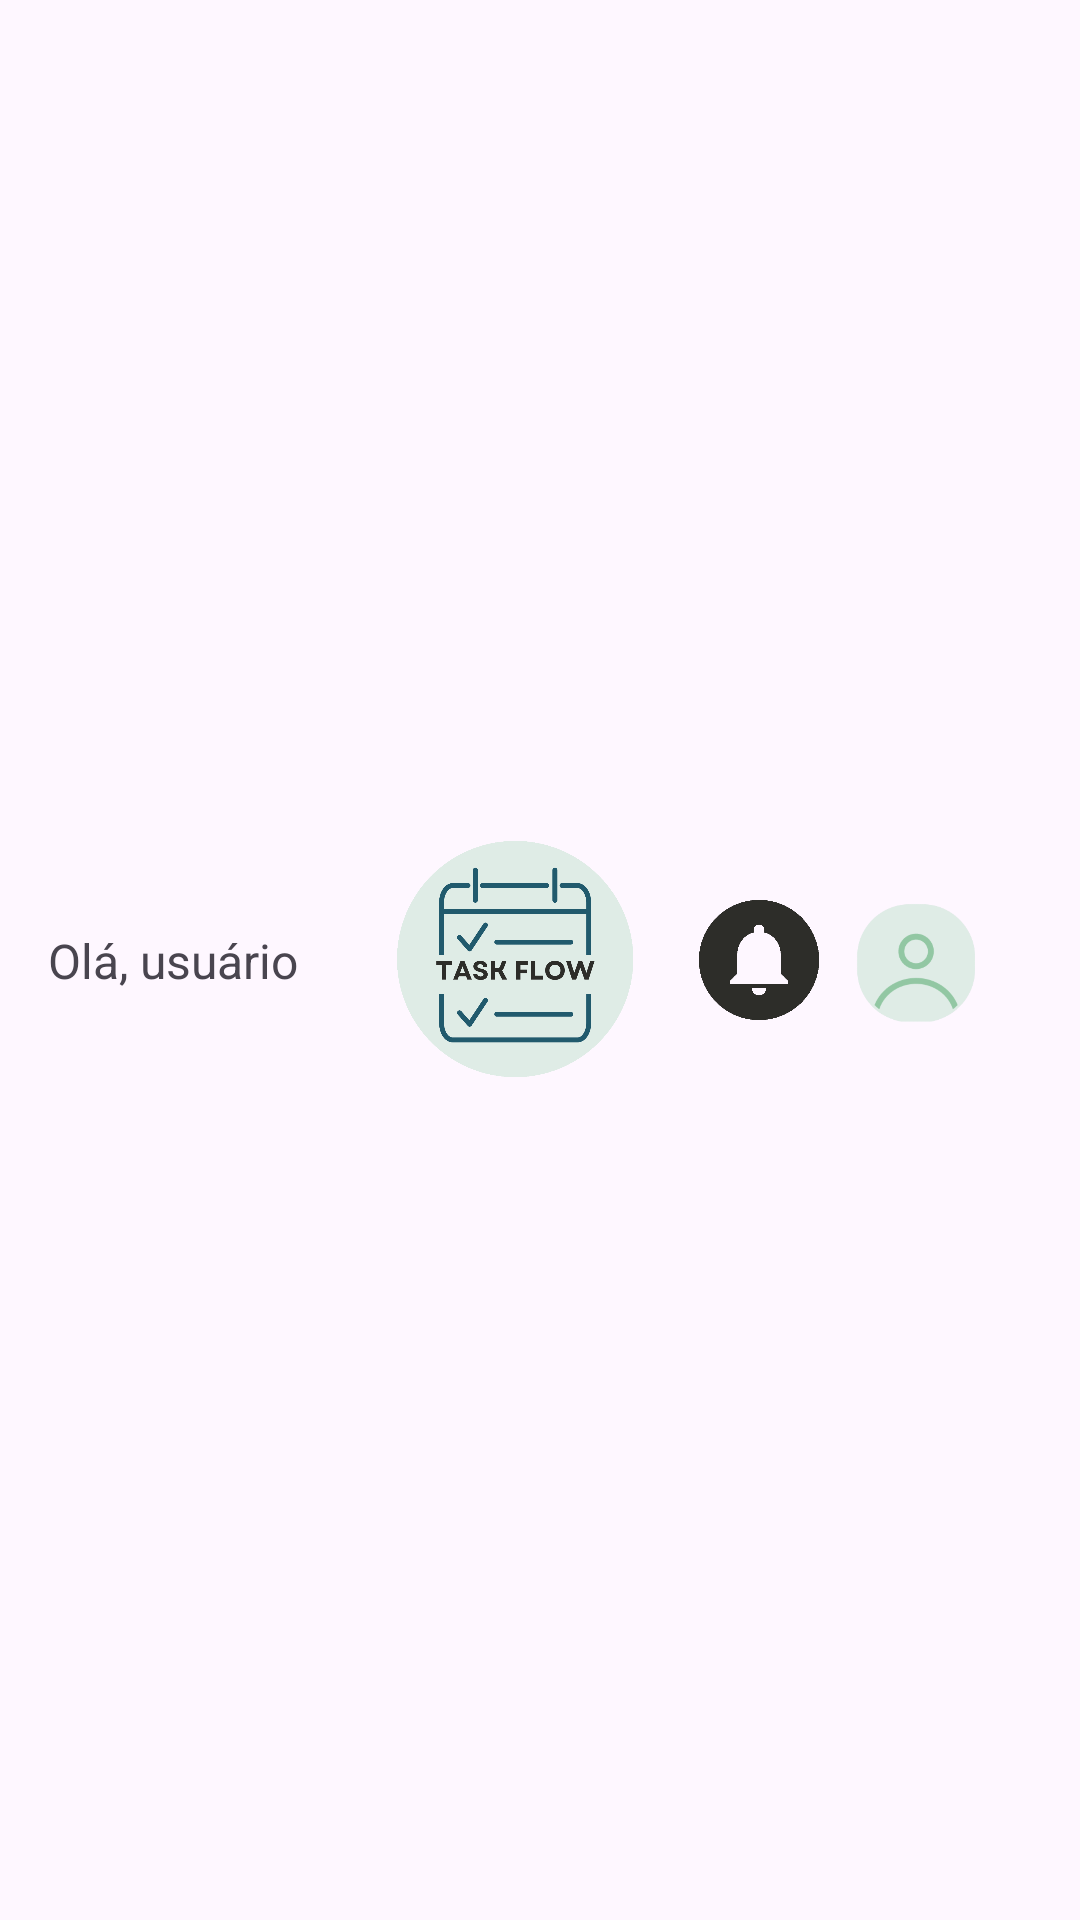

Where icons sit on this 1080x1920 app screen, as (x1, y1, x2, y2):
Notificação: (699, 900, 819, 1020)
Perfil: (857, 904, 975, 1021)
